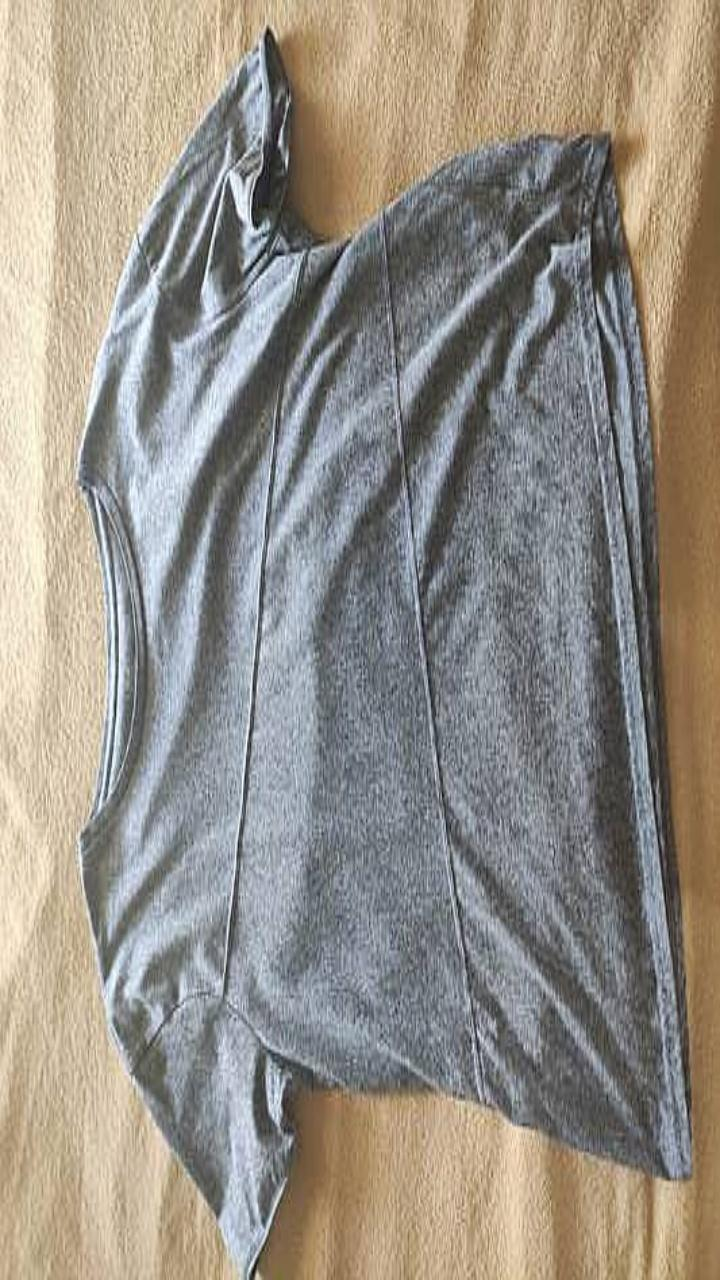T-Shirt: (76, 26, 691, 1279)
